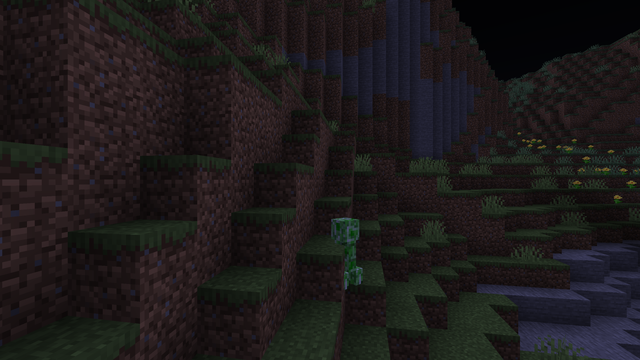creepers: (331, 214, 356, 289)
